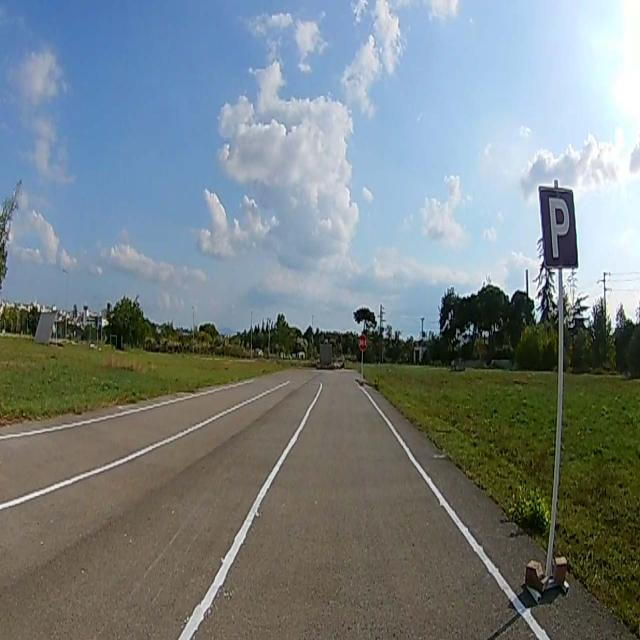park: (539, 185, 579, 267)
